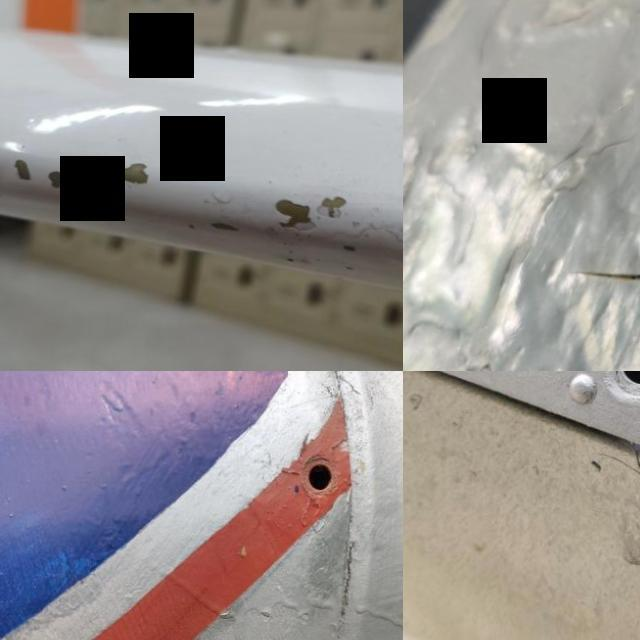Crack: (0, 78, 403, 296), (555, 0, 640, 362)
Missing_Fastener: (547, 371, 640, 450), (276, 438, 362, 516)
